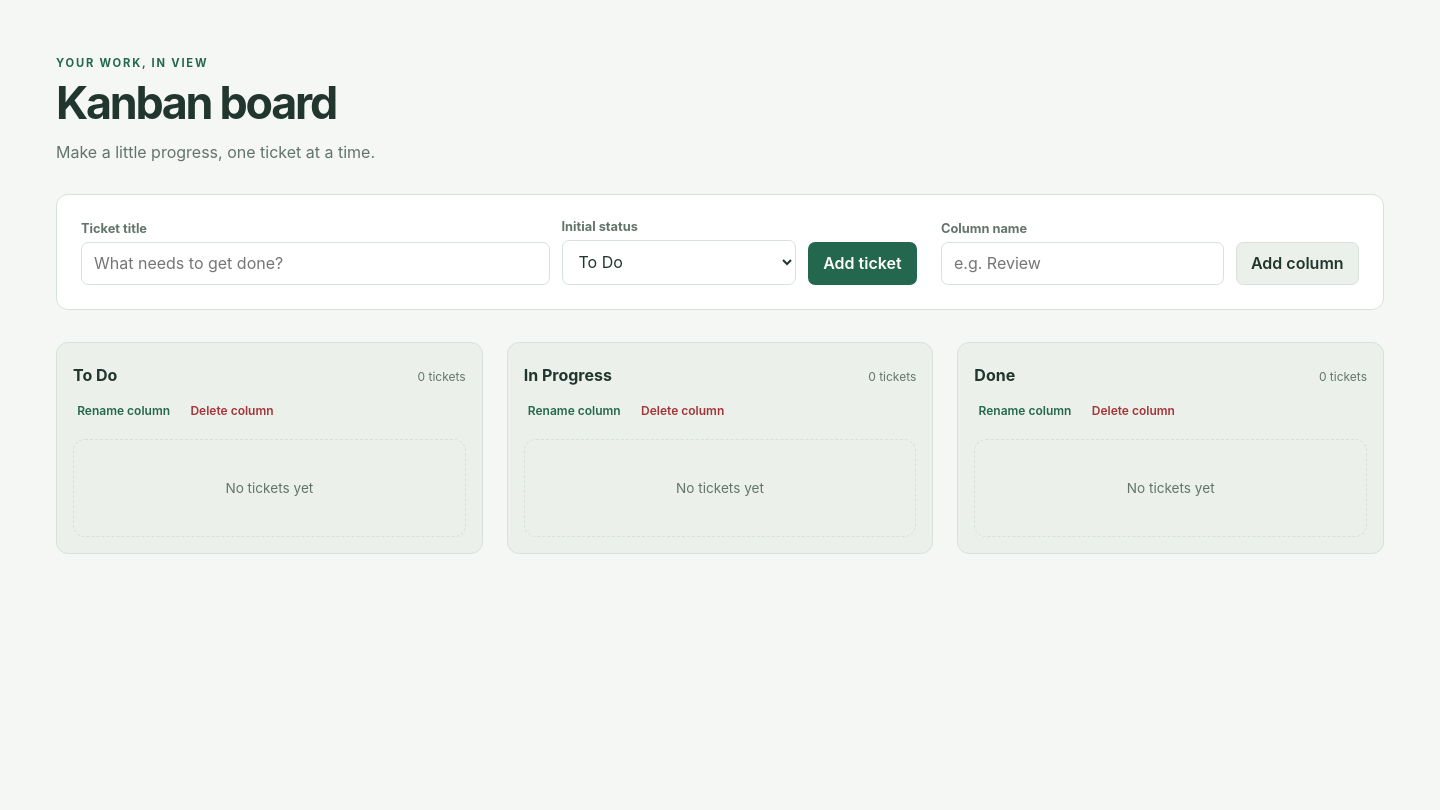
Kanban board acceptance › AC12: rejects invalid column names, explains the problem and allows cancelling:
Click the button "Rename column" below "Done".
click(1025, 410)  # box [974, 397, 1076, 423]
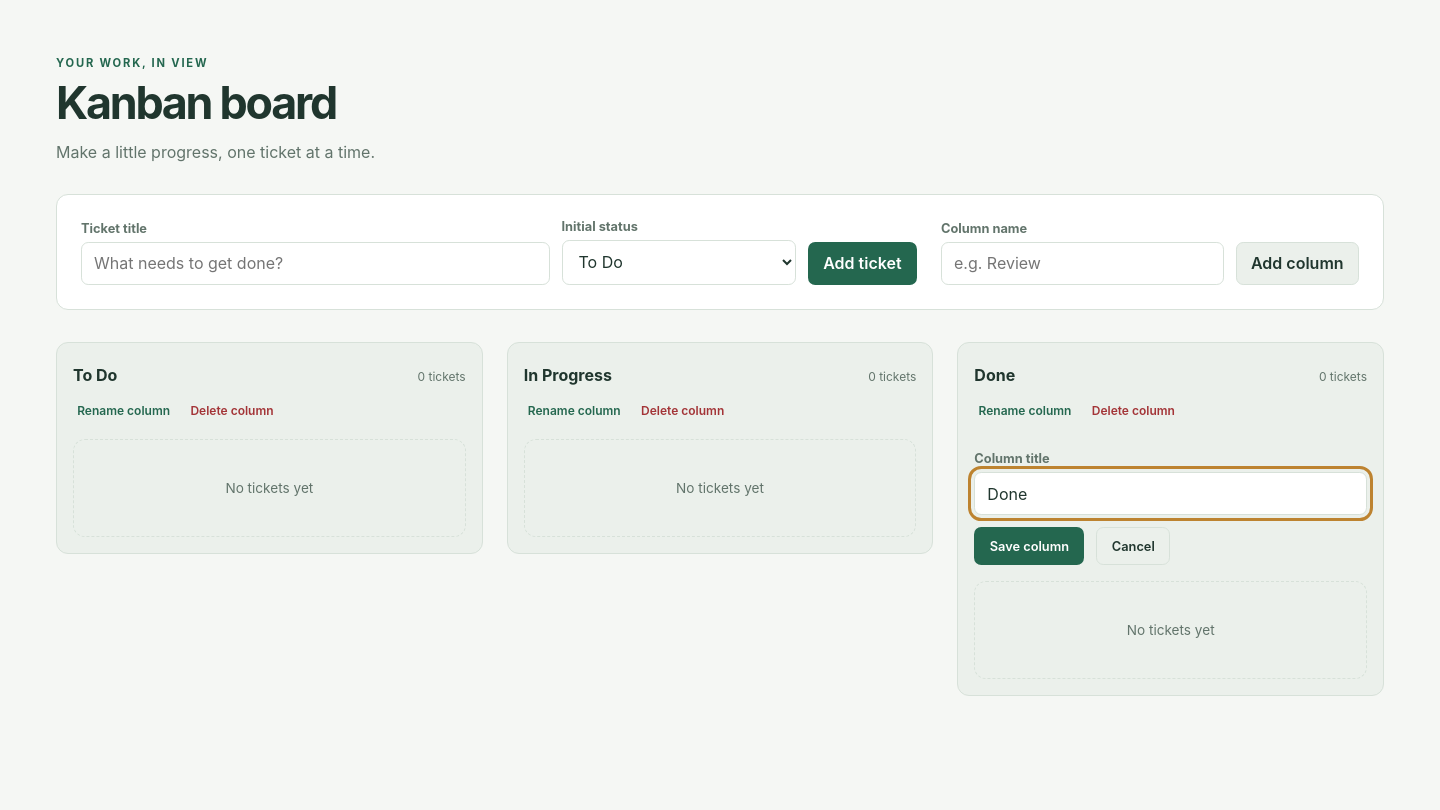
Clear the field labelled "Column title" at x=1171, y=494, box [974, 472, 1367, 515]
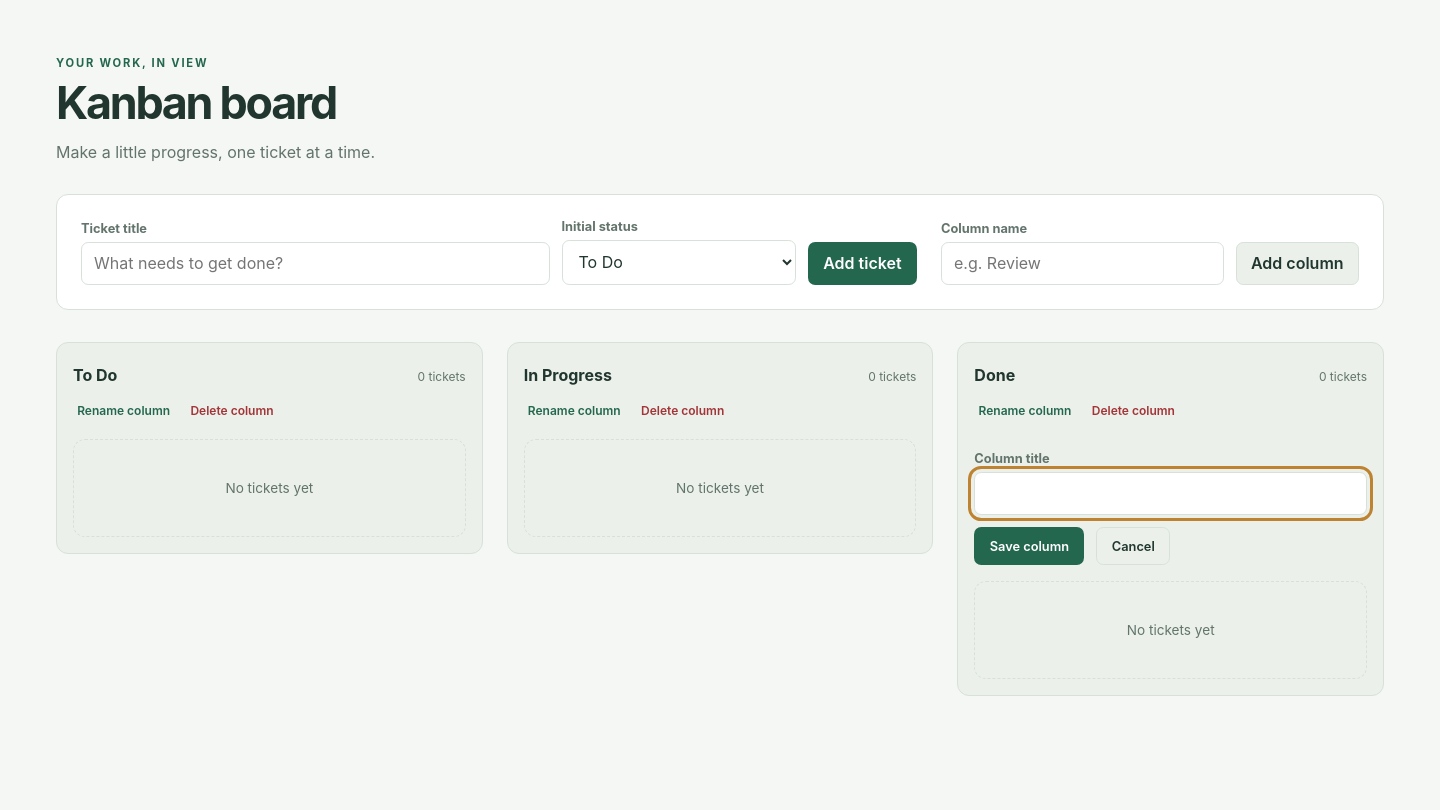
Click the button "Save column".
click(1029, 546)  # box [974, 527, 1084, 565]
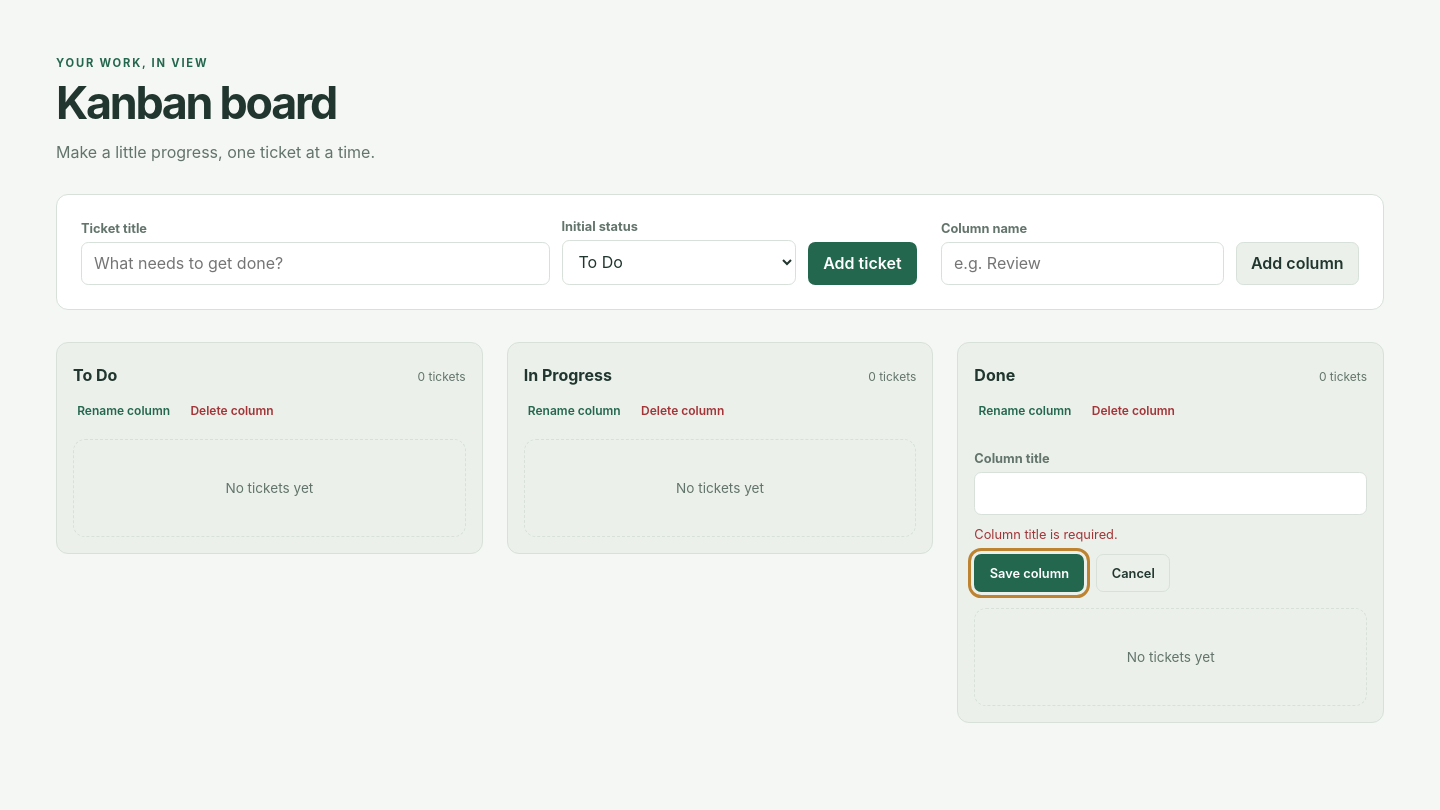
Expected: the message shows "Column title is required", [974, 527, 1118, 542]
Type "Discarded name" into the field labelled "Column title".
click(1171, 494); type("Discarded name")  # box [974, 472, 1367, 515]
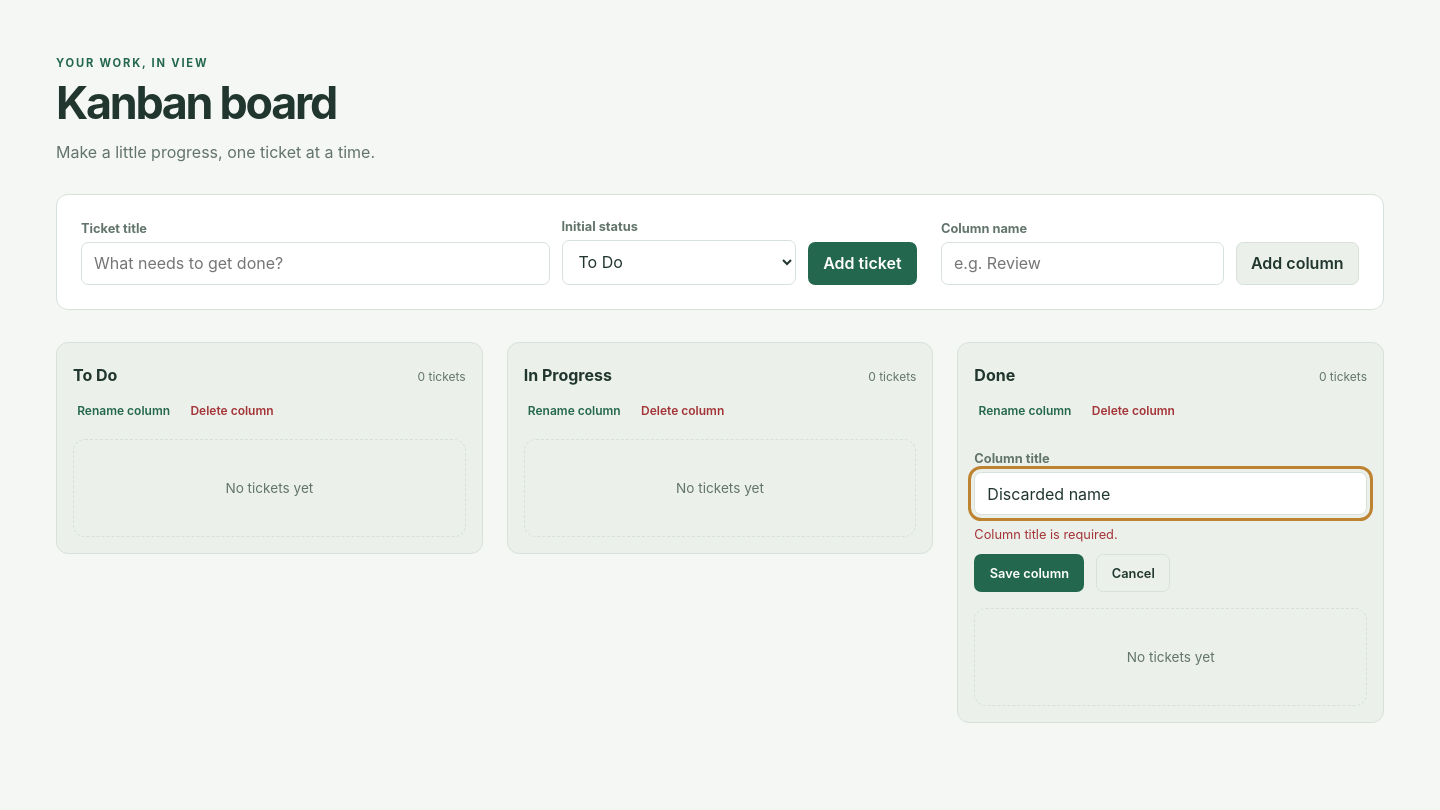
Click the button "Cancel".
click(1133, 573)  # box [1096, 554, 1170, 592]
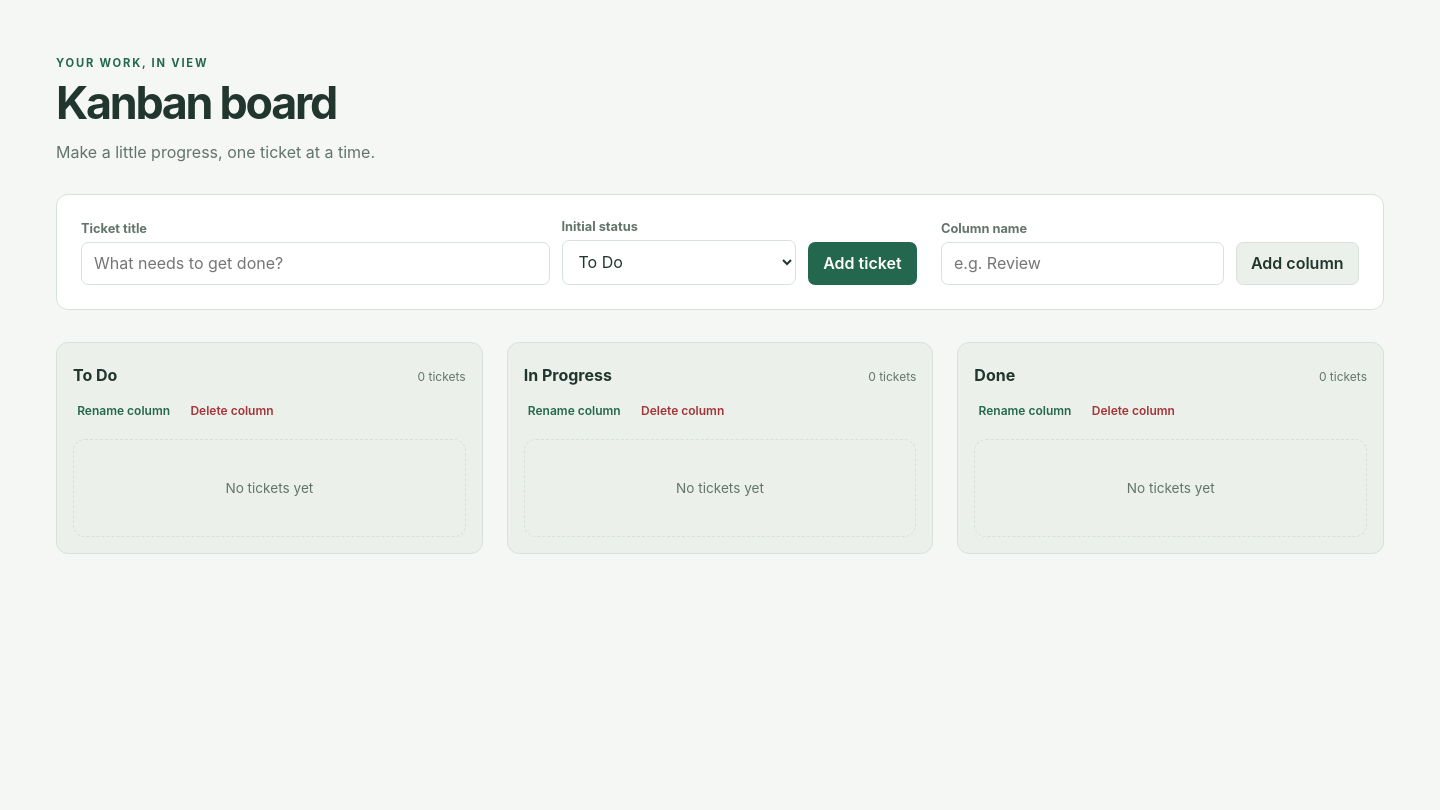
Expected: the label "Column title" is gone
